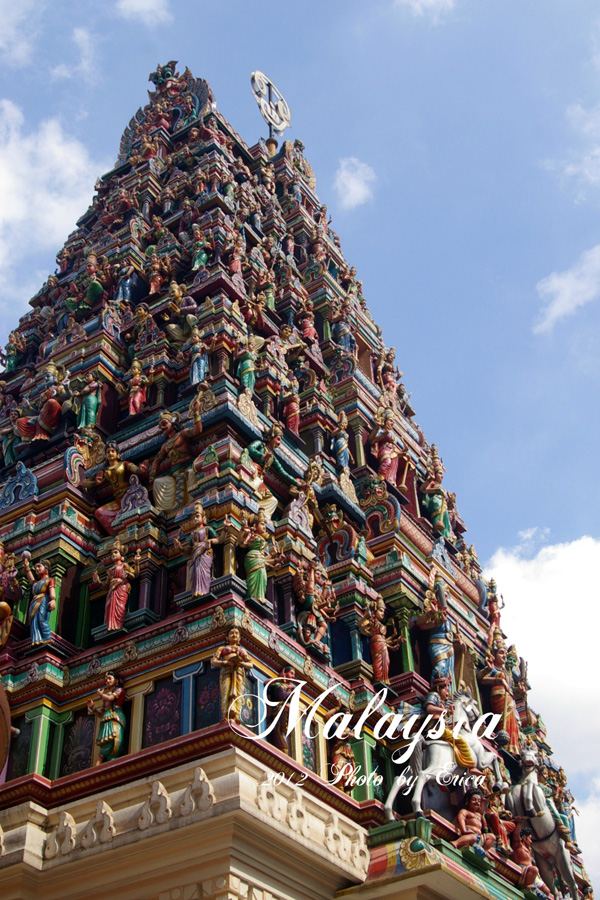Hindu Temple: (7, 52, 567, 878)
